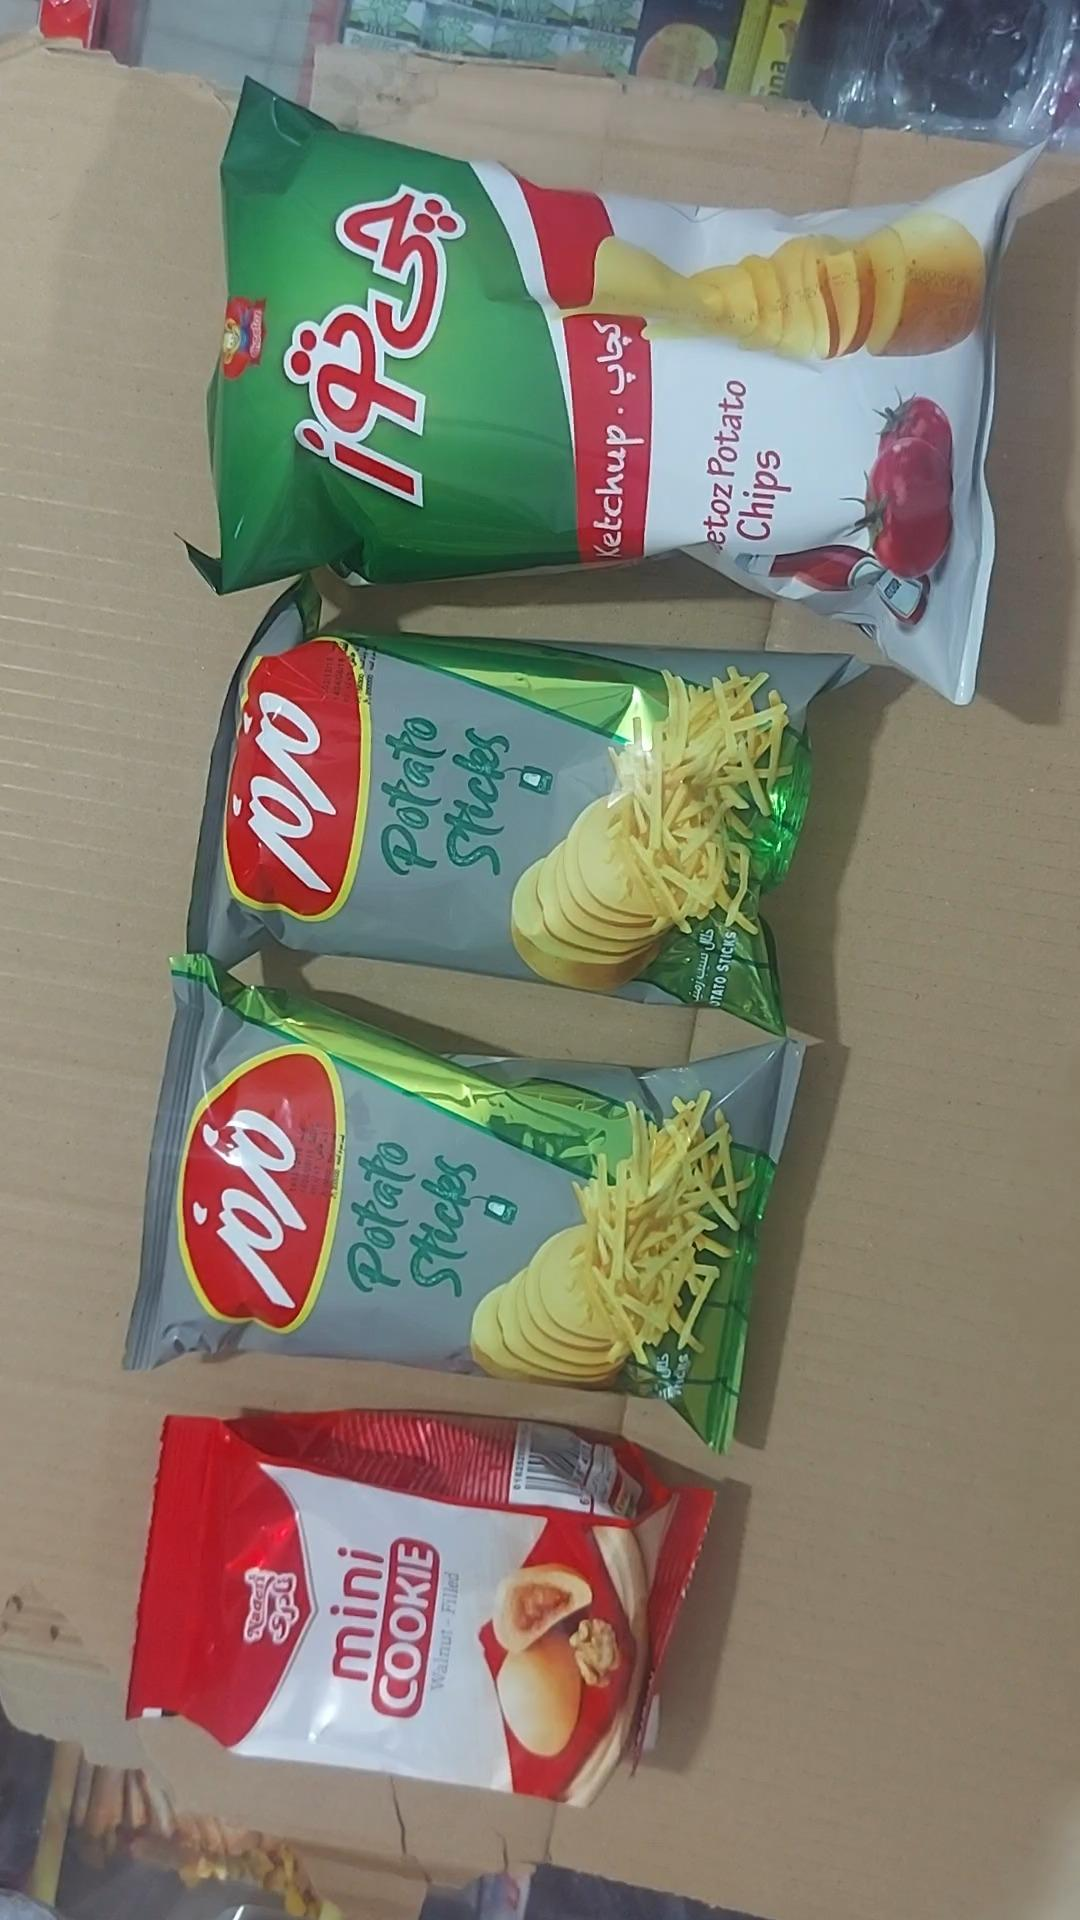Cheetoz ketchup chips: (167, 80, 1035, 708)
Maz Maz potato sticks: (123, 955, 804, 1455), (183, 574, 865, 1038)
Naderi mini cookie: (125, 1411, 719, 1811)
